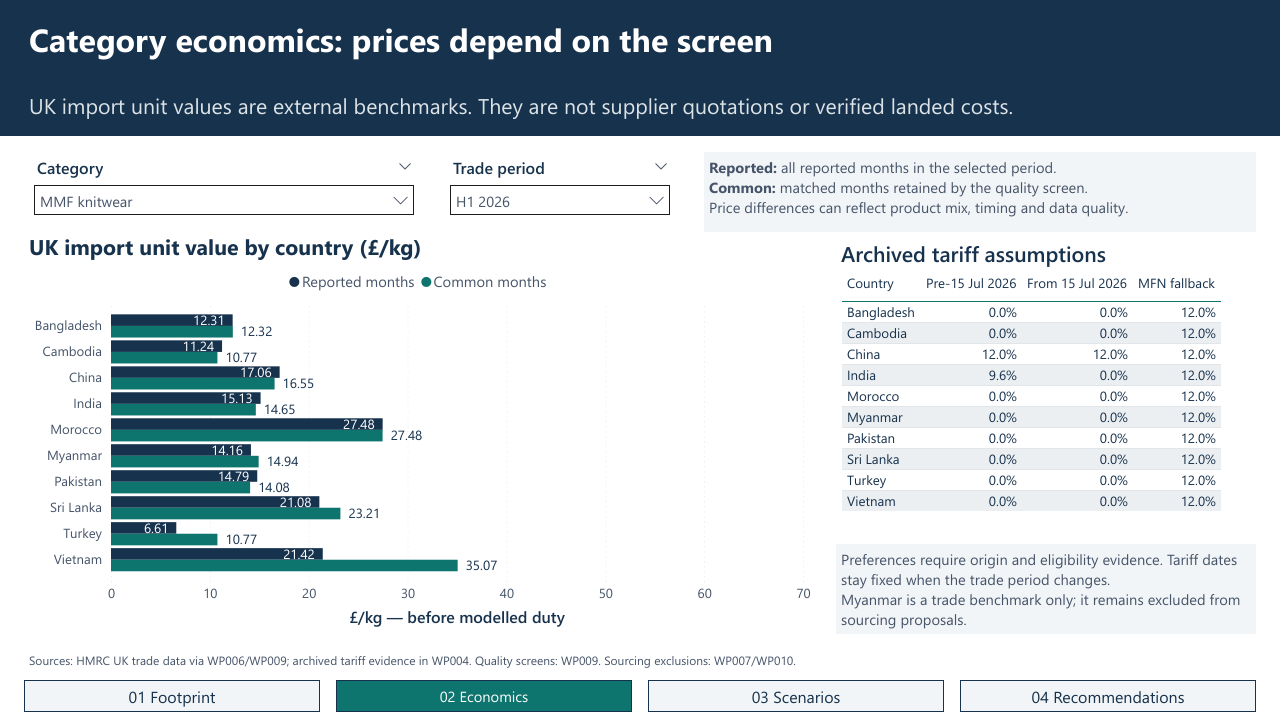

The page's visual inventory and layout, read from the dashboard file:
{"tool":"powerbi","page":{"name":"02 Economics","canvas":[1280,720],"ordinal":2},"visuals":[{"type":"shape","box":[0,0,1280,136],"z":0},{"type":"textbox","box":[24,12,1232,60],"z":1000},{"type":"textbox","box":[24,86.4,1232.3,42],"z":2000},{"type":"pageNavigator","box":[24,680,1232,32],"z":3000},{"type":"slicer","fields":{"Values":["DimCategory.Category"]},"box":[24,152,400,64],"z":4000},{"type":"slicer","fields":{"Values":["DimPeriod.Period"]},"box":[440,152,240,64],"z":5000},{"type":"clusteredBarChart","title":"UK import unit value by country (£/kg)","fields":{"Category":["DimCountry.Country"],"Y":["FactTradeBenchmark.Reported Unit Value GBP per kg","FactTradeBenchmark.Common-Month Unit Value GBP per kg"]},"box":[24,232,792,400],"z":6000},{"type":"tableEx","title":"Archived tariff assumptions","fields":{"Values":["FactTariffBenchmark.Country","FactTariffBenchmark.Pre-15 July 2026","FactTariffBenchmark.From 15 July 2026","FactTariffBenchmark.MFN fallback"]},"box":[836,239,420,300],"z":7000},{"type":"textbox","box":[703.9,152.3,551.6,79.6],"z":8000},{"type":"textbox","box":[836,544,420,90],"z":9000},{"type":"textbox","box":[24,644,1232,30],"z":10000}]}

Visuals, with their boxes in screenshot pixels (x1, y1, x2, y2), scaled from the page's 1280x720 canvas onto the 1280x720 screenshot:
shape: <bbox>0, 0, 1279, 136</bbox>
textbox: <bbox>24, 12, 1256, 72</bbox>
textbox: <bbox>24, 86, 1256, 128</bbox>
pageNavigator: <bbox>24, 680, 1256, 712</bbox>
slicer - DimCategory.Category: <bbox>24, 152, 424, 216</bbox>
slicer - DimPeriod.Period: <bbox>440, 152, 680, 216</bbox>
"UK import unit value by country (£/kg)" clusteredBarChart: <bbox>24, 232, 816, 632</bbox>
"Archived tariff assumptions" tableEx: <bbox>836, 239, 1256, 539</bbox>
textbox: <bbox>704, 152, 1256, 232</bbox>
textbox: <bbox>836, 544, 1256, 634</bbox>
textbox: <bbox>24, 644, 1256, 674</bbox>
